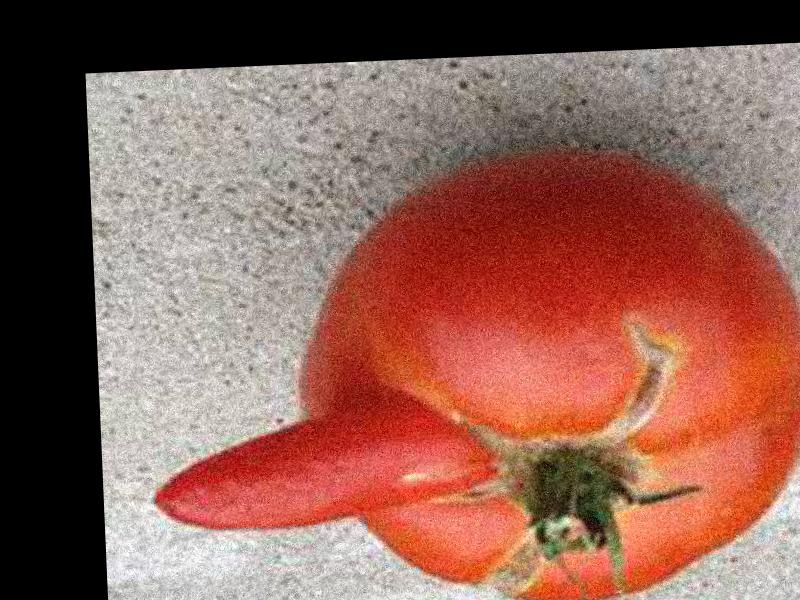Tomato: (290, 154, 800, 600)
